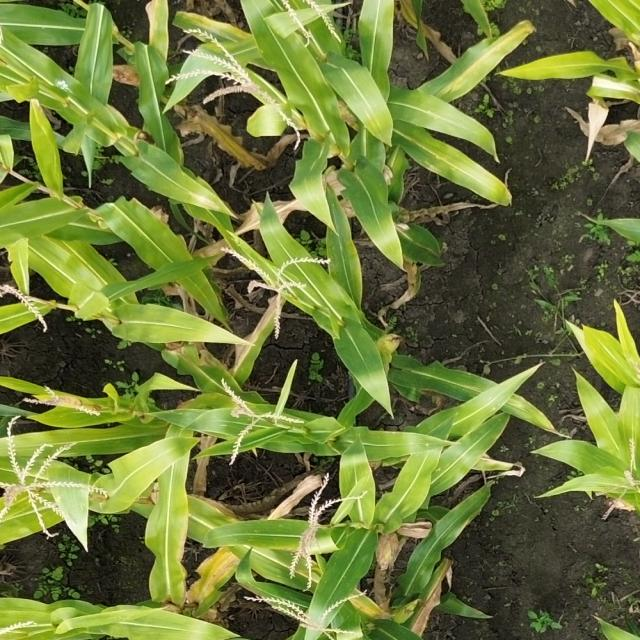northern-leaf-blight: (155, 176, 245, 224), (440, 60, 495, 98)
southern-leaf-blight: (338, 85, 406, 148), (416, 360, 490, 406), (236, 516, 308, 550), (421, 146, 475, 180)
